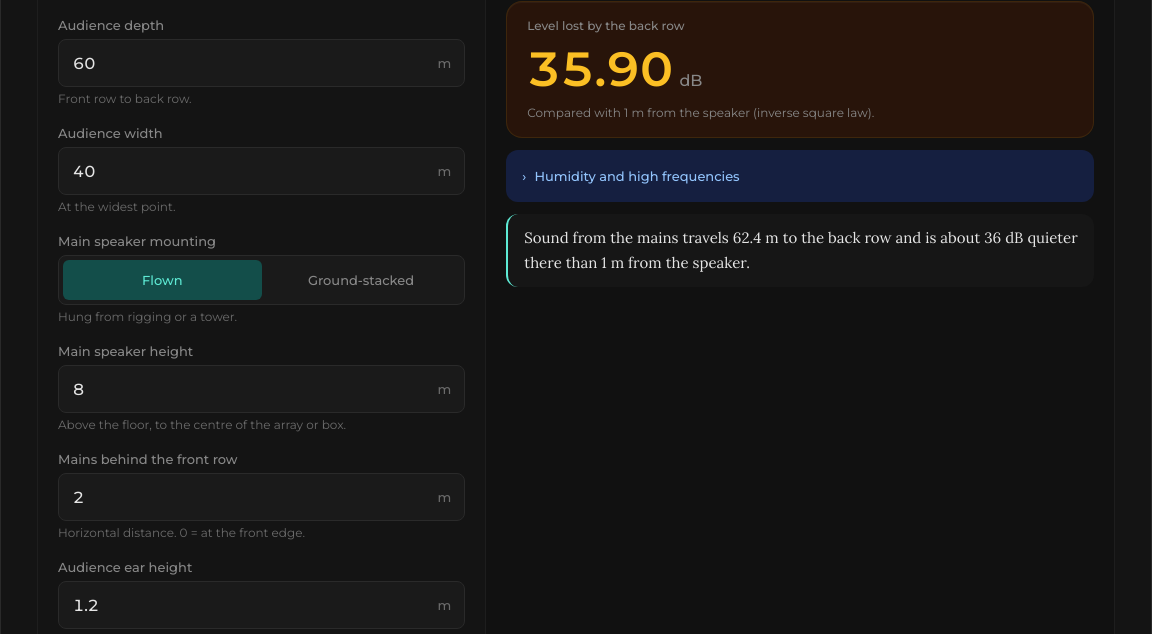
ground-stacked vs flown mains › Delay tower planner records the mounting in its summary
(page scrolled)
Click the radio button labelled "Ground-stacked".
click(361, 280)  # box x1=262 y1=260 x2=460 y2=300
(page scrolled)
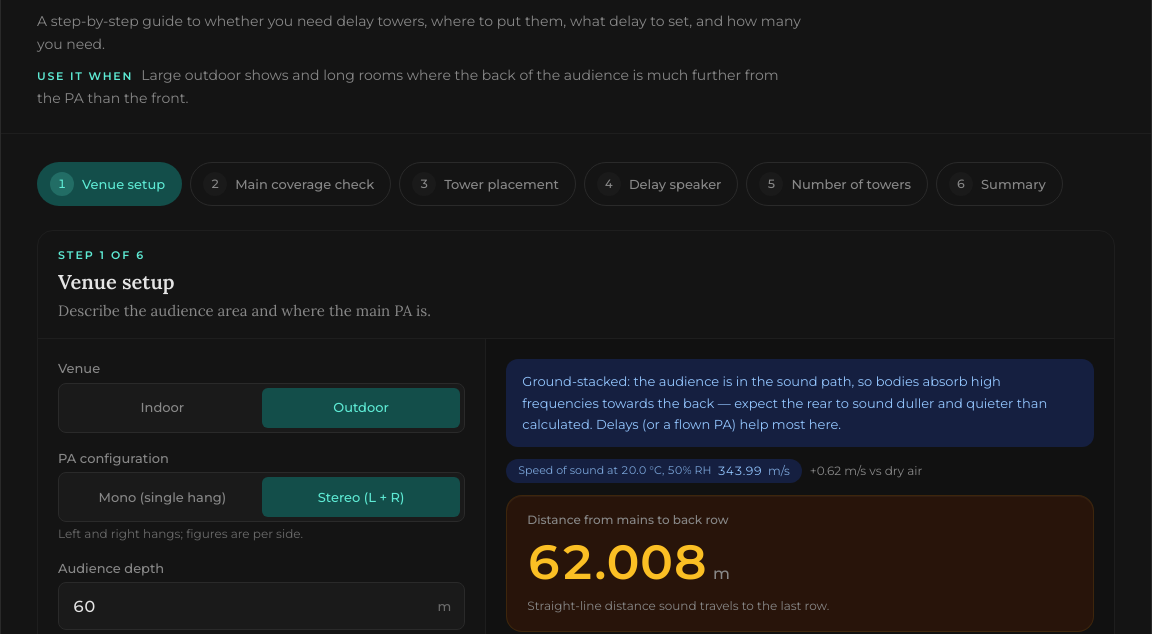
Click the button with aria-label "Step 6: Summary".
click(999, 184)  # box x1=936 y1=162 x2=1063 y2=206
(page scrolled)
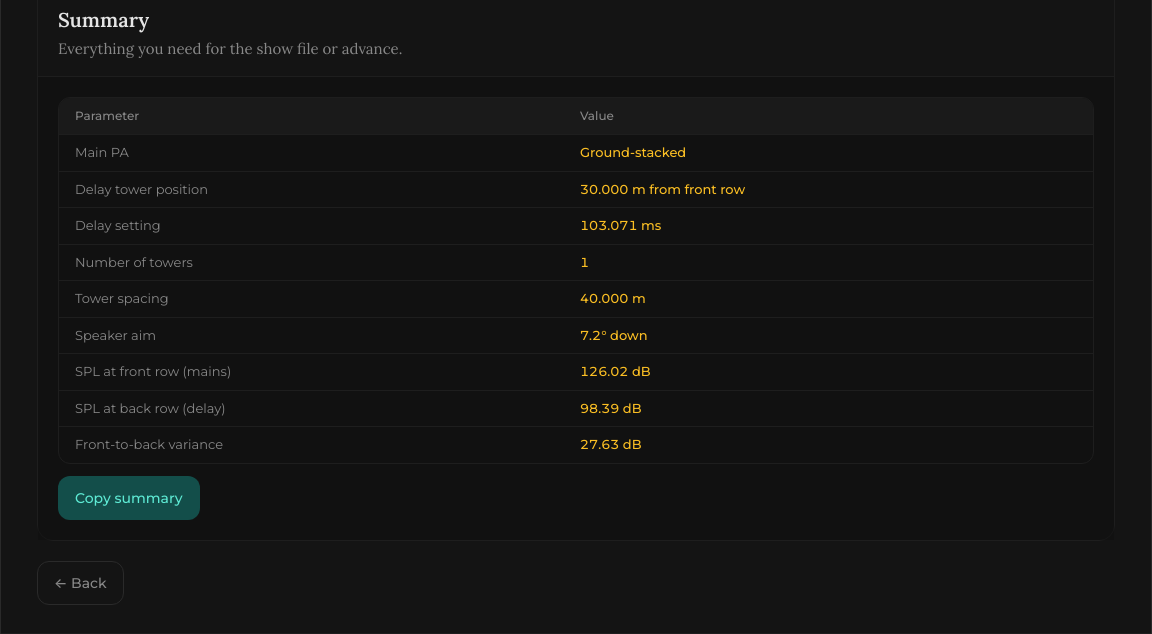
Expected: the table shows "Ground-stacked", x1=580 y1=144 x2=686 y2=160
